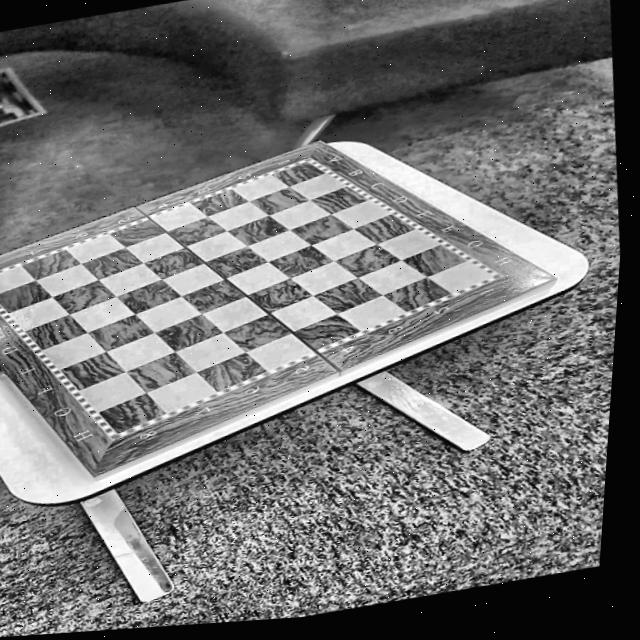chessboard: (0, 161, 494, 432)
